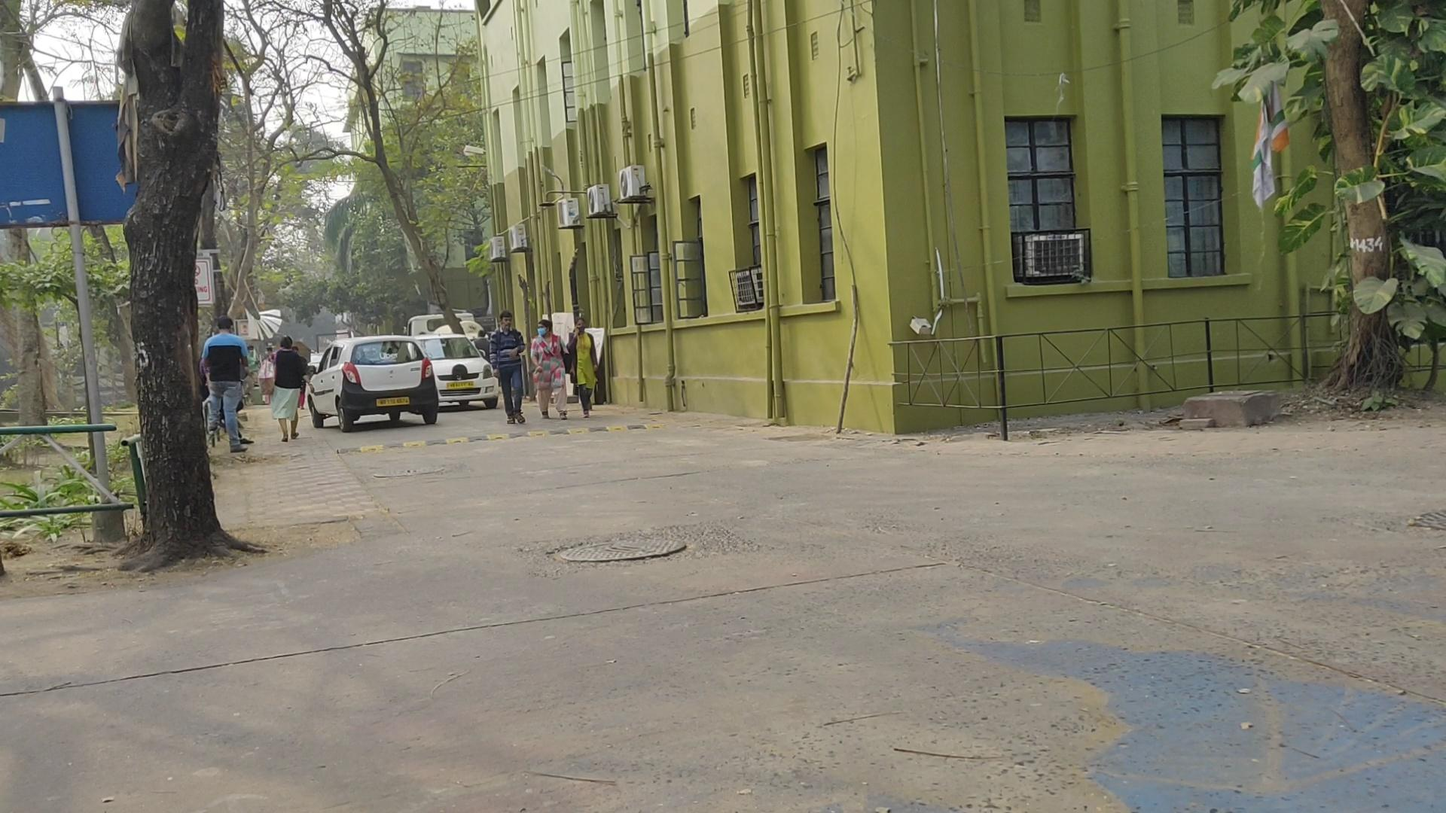car: (307, 336, 439, 434), (407, 333, 499, 413)
